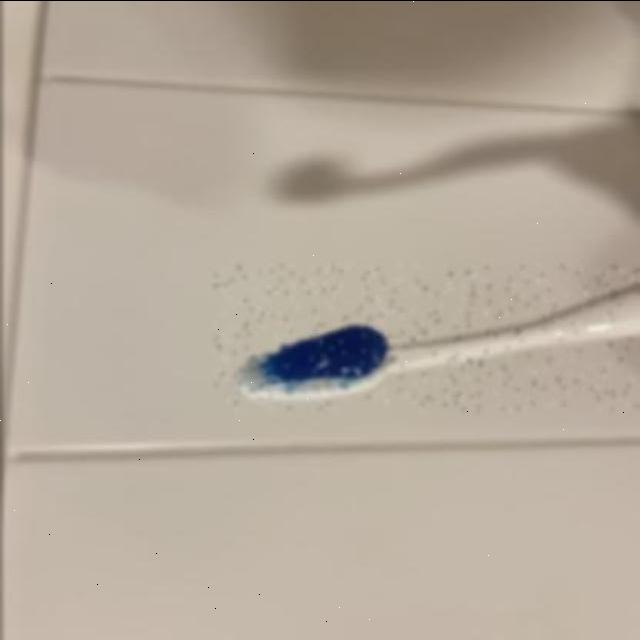toothbrush: (212, 265, 640, 411)
